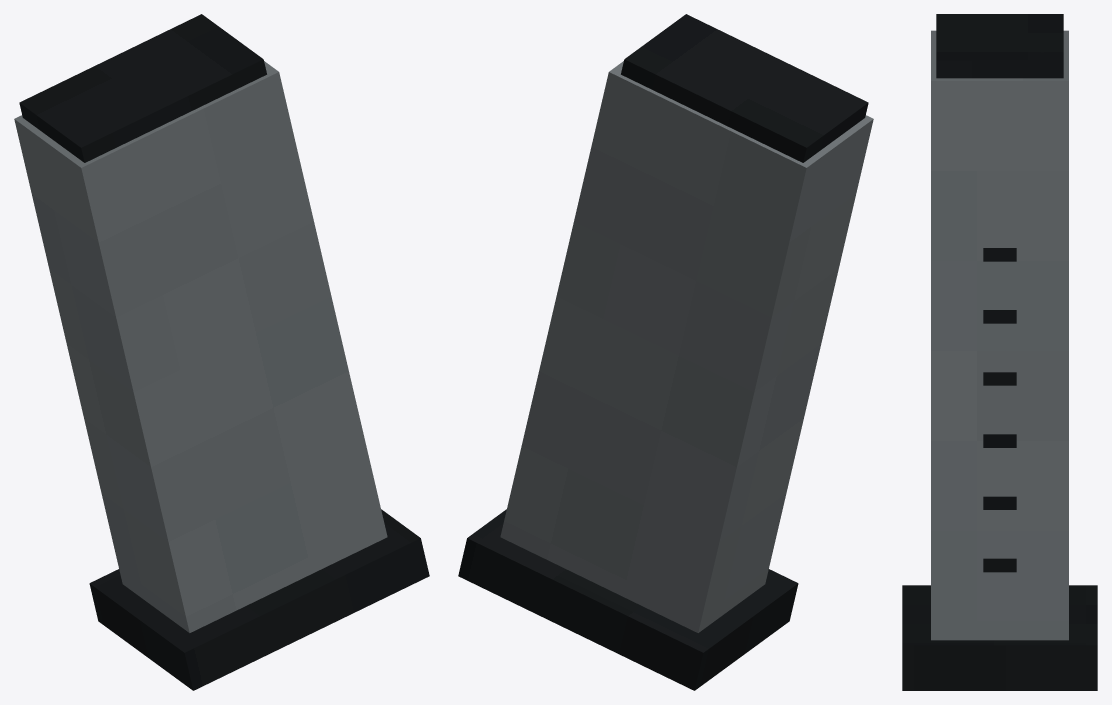
File: G17_Style_Magazine.glb
3 views of the same model, side by side, from view 1: azimuth 30°, elevation 25°; view 2: azimuth 150°, elevation 25°; view 3: azimuth 270°, elevation 25° (orthographic). The views are drawn at different scales.
Parts seen in each view (by area): view 1: Magazine body, Magazine floorplate, Magazine follower; view 2: Magazine body, Magazine floorplate, Magazine follower; view 3: Magazine body, Magazine floorplate, Magazine follower, Magazine witness hole 0, Magazine witness hole 1, Magazine witness hole 2, Magazine witness hole 3, Magazine witness hole 4, Magazine witness hole 5.
Part boxes in pixels (<box>): Magazine body: <box>14,61,387,632</box>; Magazine floorplate: <box>89,509,429,690</box>; Magazine follower: <box>19,14,266,162</box>; Magazine body: <box>500,61,873,632</box>; Magazine floorplate: <box>458,509,798,690</box>; Magazine follower: <box>621,14,868,162</box>; Magazine body: <box>931,30,1068,640</box>; Magazine floorplate: <box>902,585,1097,690</box>; Magazine follower: <box>936,14,1063,78</box>; Magazine witness hole 0: <box>983,558,1016,572</box>; Magazine witness hole 1: <box>983,496,1016,509</box>; Magazine witness hole 2: <box>983,434,1016,447</box>; Magazine witness hole 3: <box>983,372,1016,385</box>; Magazine witness hole 4: <box>983,310,1016,323</box>; Magazine witness hole 5: <box>983,248,1016,261</box>.
Bounding box in the file's own units: 0.0593 × 0.1014 × 0.0292.
Materials: 1 (1 with a texture image).
